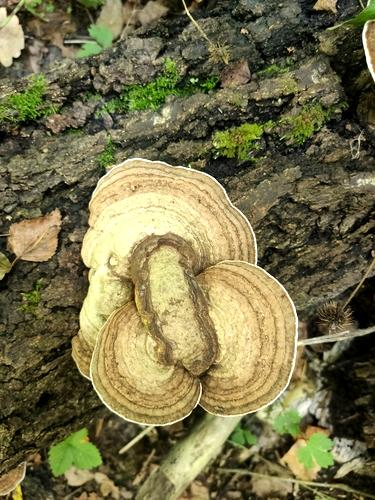Ganoderma - Fruit Body: (72, 157, 301, 427)
